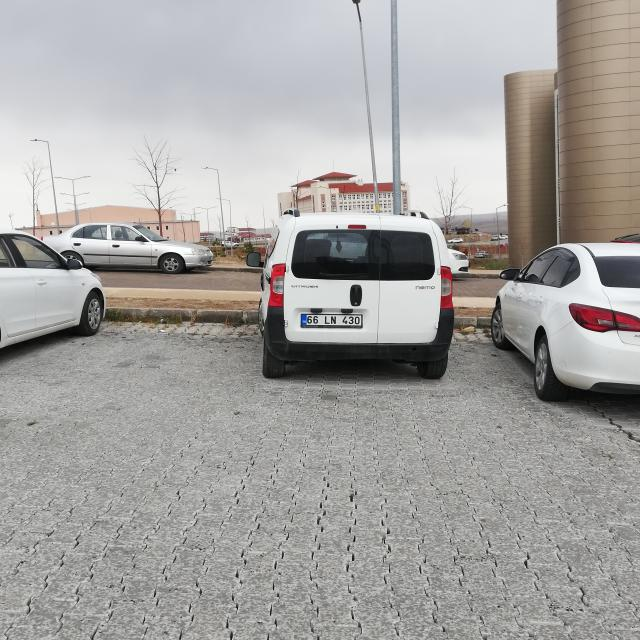license_plate: (302, 314, 362, 328)
